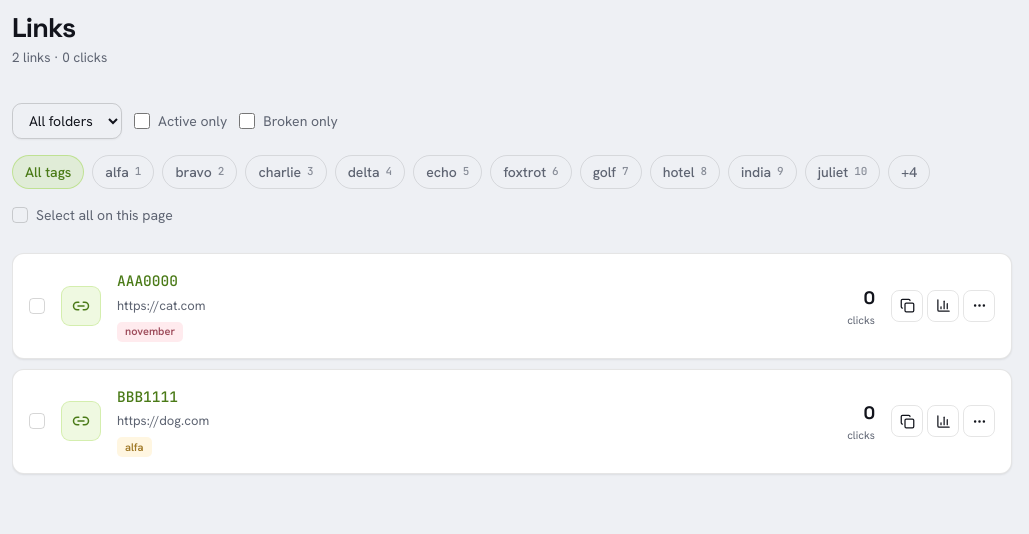
Links › caps tag chips at 10 behind a '+N' toggle that expands to reveal every tag (still filterable)
Check: the button "alfa 1" is shown, box [92,155,154,189]
Click the button "+4".
click(909, 172)  # box [888,155,930,189]
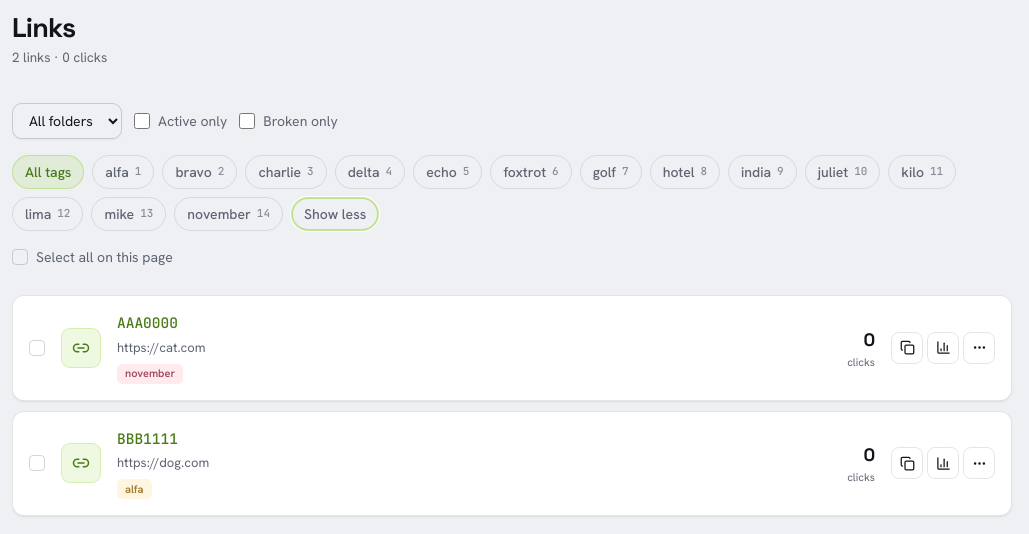
Check: the button "Show less" is shown, box [291,197,379,231]
Check: the button "+4" is gone
Note: Every tag is still filterable once expanded, including ones beyond the original cap.
Click the button "november 14".
click(229, 214)  # box [174,197,283,231]
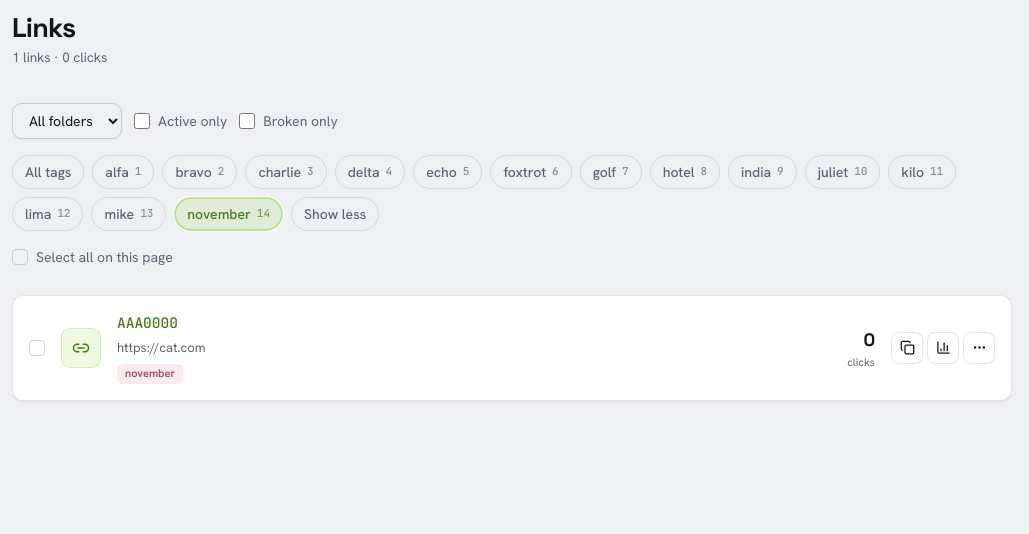
Check: the link "AAA0000" is shown, box [117,312,178,334]
Check: the link "BBB1111" is gone
